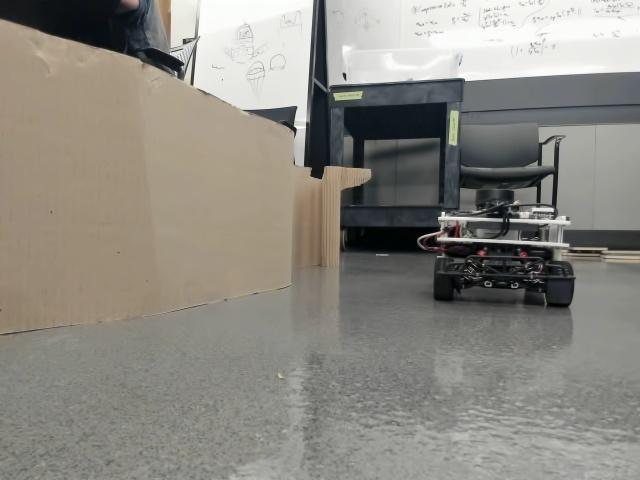Car: (417, 181, 574, 308)
